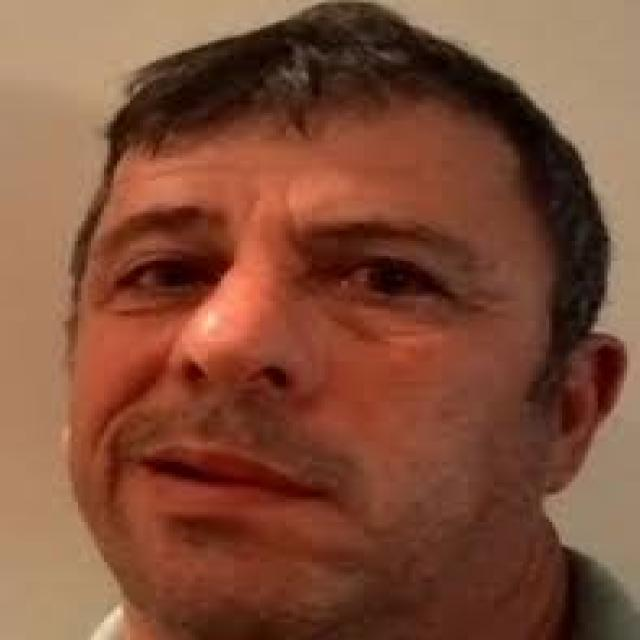stroke_face: (76, 70, 575, 620)
